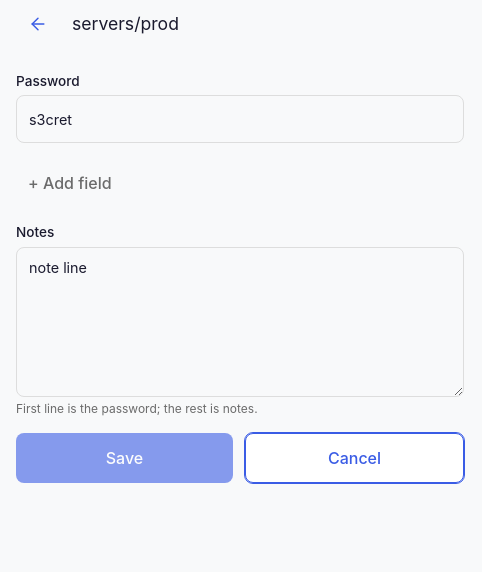
EntryEditPage › renders a warning (not red error) when the store needs an age plugin binary
This screenshot has width=482, height=572.
Replace the text in the field with id "e-password" with "newpass". click: (240, 119)
box: x1=16 y1=95 x2=464 y2=143
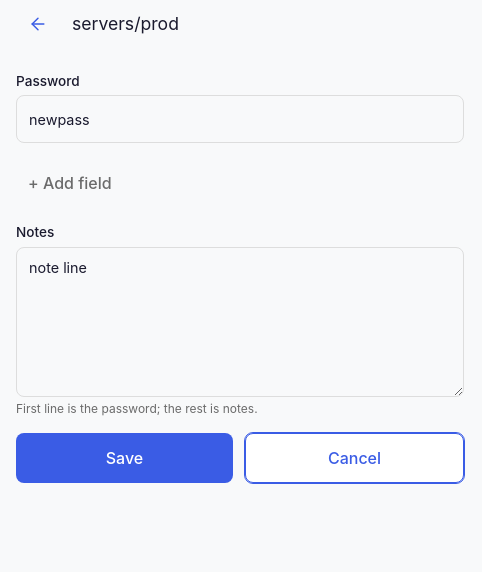
Submit the form
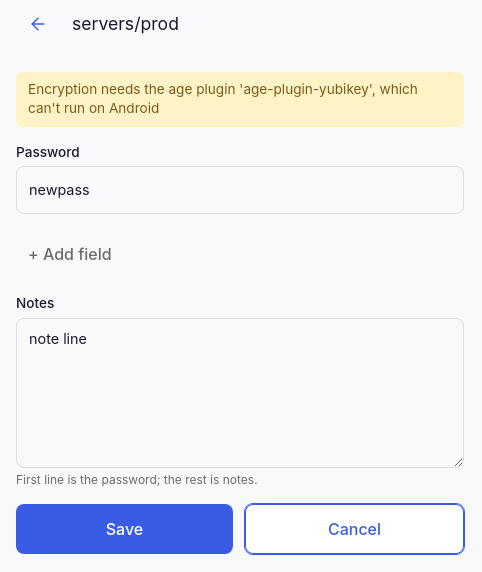
Now the message is shown, box x1=16 y1=72 x2=464 y2=127
Now the message shows "age-plugin-yubikey", box x1=28 y1=81 x2=418 y2=116
